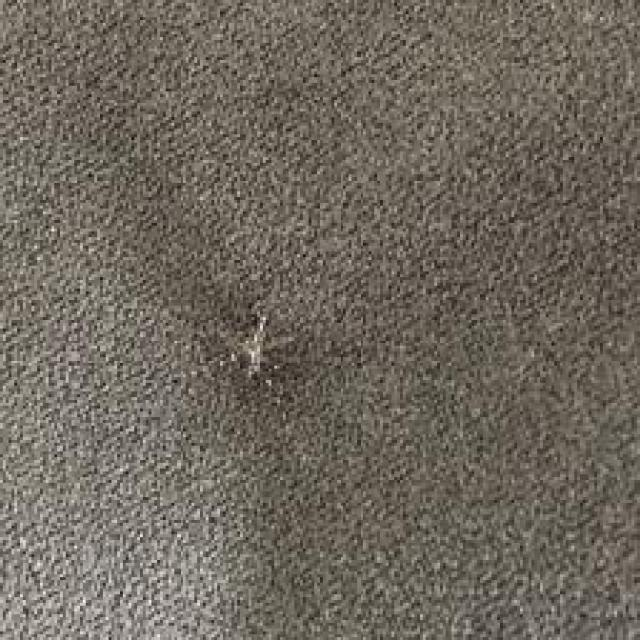Aedes albopictus: (241, 311, 270, 380)
